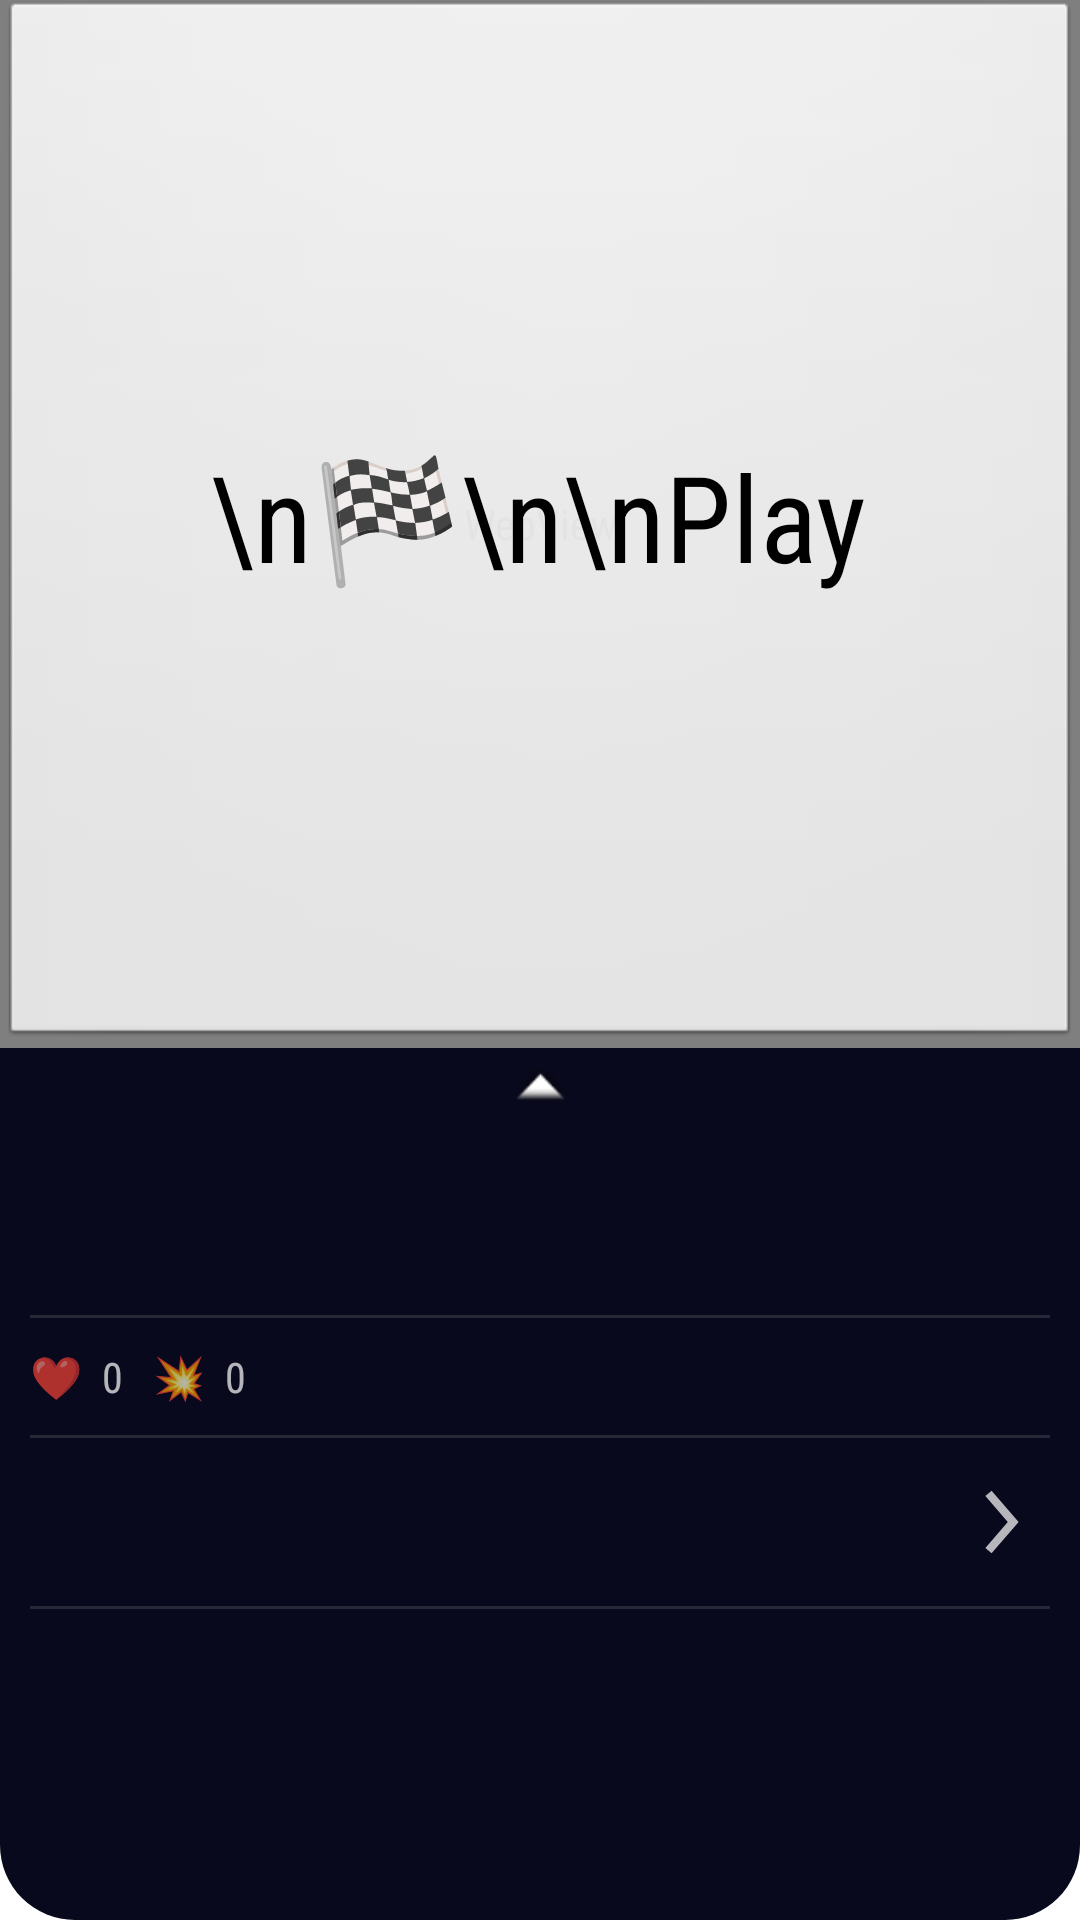

Named icons in this screenshot (1080×1920) and their centers, (x=x, y=y):
arrow up float: (x=540, y=1086)
